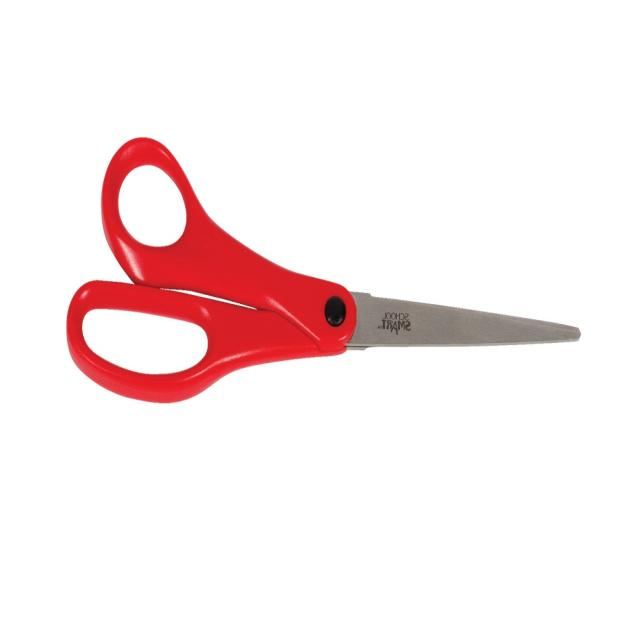scissor: (60, 129, 585, 416)
